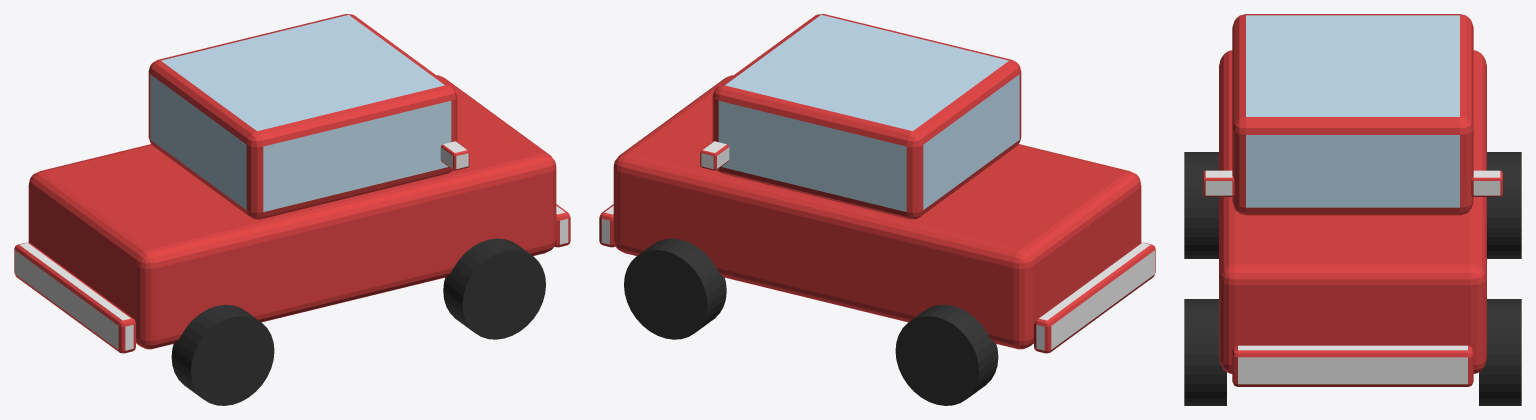
Rendered from SurfaceCar_LODs.fbx.
3 renders of one model, left to right at view 1: azimuth 30°, elevation 25°; view 2: azimuth 150°, elevation 25°; view 3: azimuth 270°, elevation 25°, orthographic. The views are drawn at different scales.
Parts seen in each view (by area): view 1: SurfaceCar_LOD0; view 2: SurfaceCar_LOD0; view 3: SurfaceCar_LOD0.
Part boxes in pixels (bbox=[...]): SurfaceCar_LOD0: bbox=[14, 14, 570, 405]; SurfaceCar_LOD0: bbox=[599, 14, 1155, 405]; SurfaceCar_LOD0: bbox=[1184, 14, 1521, 405].
Size of the model in its own units: 216 by 110 by 126.
